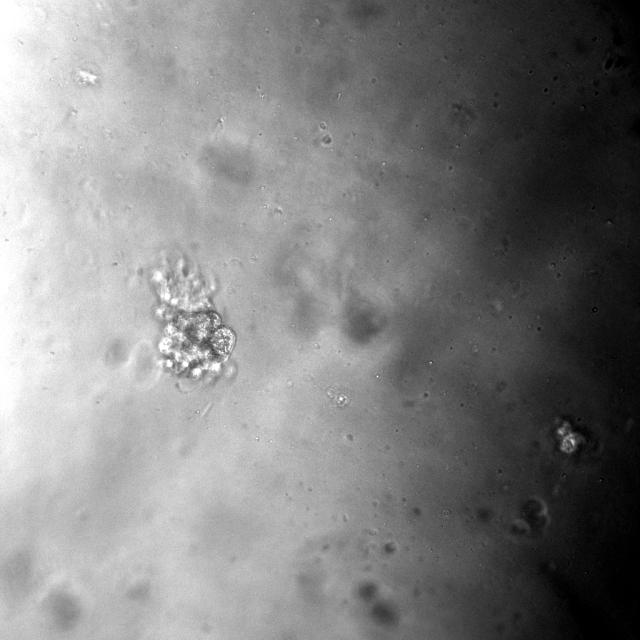organoid: (151, 256, 237, 383), (358, 581, 398, 625), (511, 498, 549, 537), (556, 421, 584, 454)
